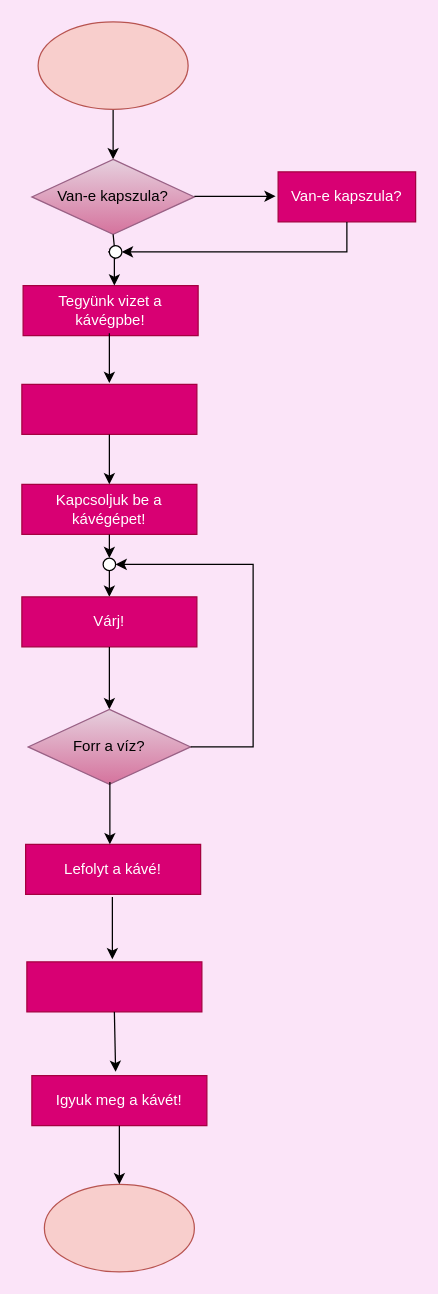
This 438x1294 diagram has some shape labels left out. Each missing label, with the centre of its shape:
"START" belongs at (x=112, y=65).
"STOP" belongs at (x=118, y=1227).
"Tegyük be a kapszulát a kávégépbe!" belongs at (x=109, y=408).
"Vegyünk ki a bögrét!" belongs at (x=114, y=986).
